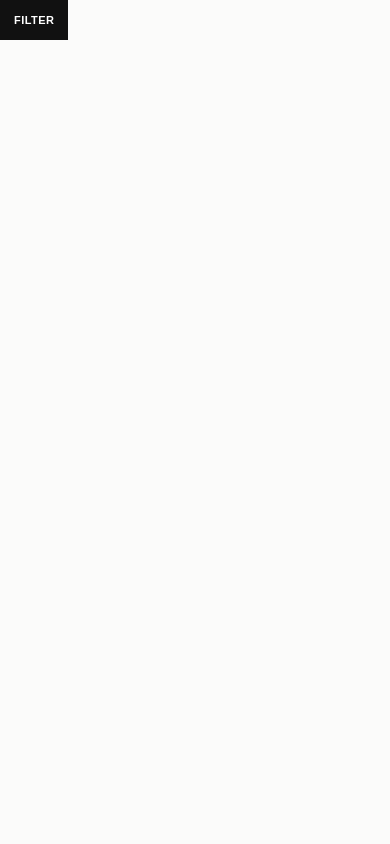
Test: FilterBar on phones › closes without applying
This screenshot has width=390, height=844.
Click the button "FILTER" at x=34, y=20, box [0,0,68,40]
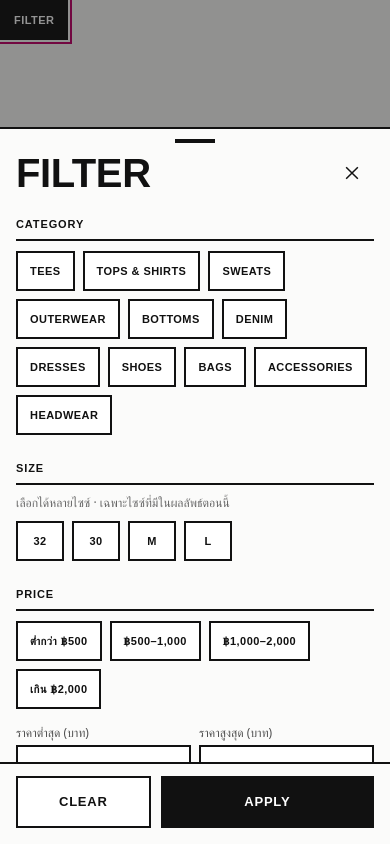
Click the button named "ปิด" at x=352, y=173, box [330,151,374,195]
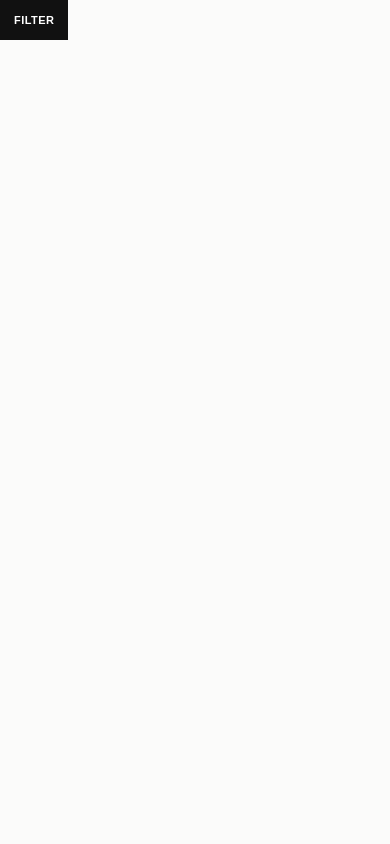
Expected: the dialog is gone
